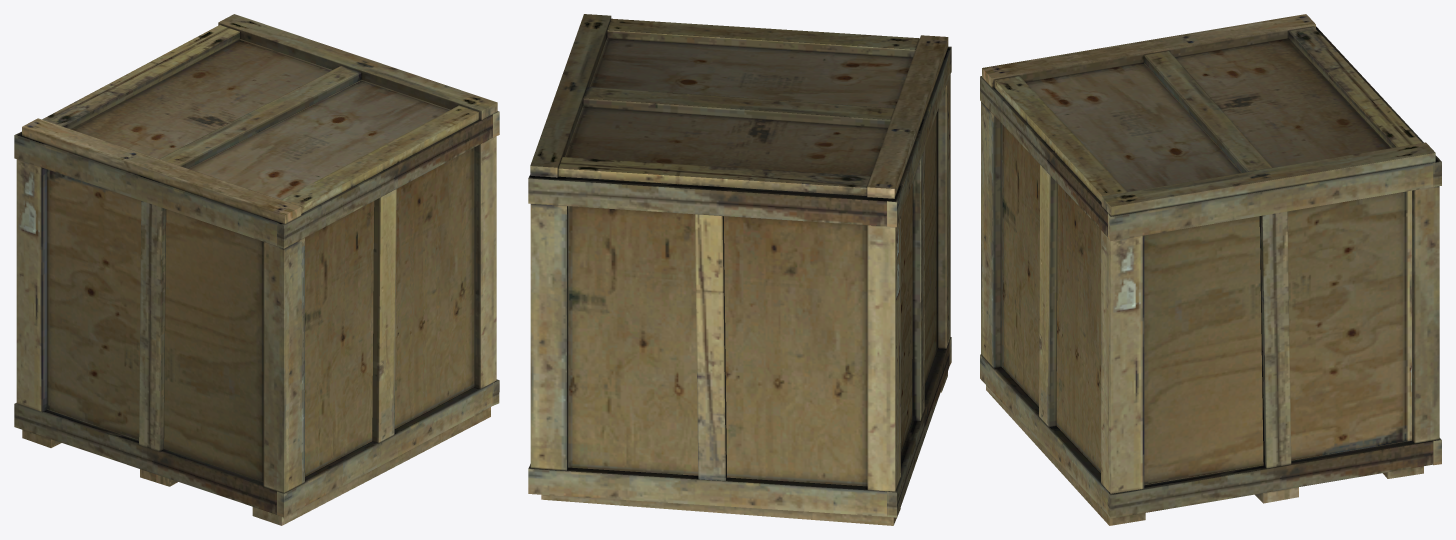
File: wood_box.001.fbx
The picture shows the model from 3 angles, left to right: view 1: azimuth 30°, elevation 25°; view 2: azimuth 150°, elevation 25°; view 3: azimuth 270°, elevation 25°; orthographic projection. The views are drawn at different scales.
Parts seen in each view (by area): view 1: wood_box.002; view 2: wood_box.002; view 3: wood_box.002.
Boxes of the visible parts, x1,y1,x2,y2 form: wood_box.002: [14, 14, 499, 525]; wood_box.002: [528, 14, 951, 525]; wood_box.002: [980, 14, 1441, 525].
Size of the model in its own units: 1.33 by 1.02 by 1.32.
1 material, 1 textured.
